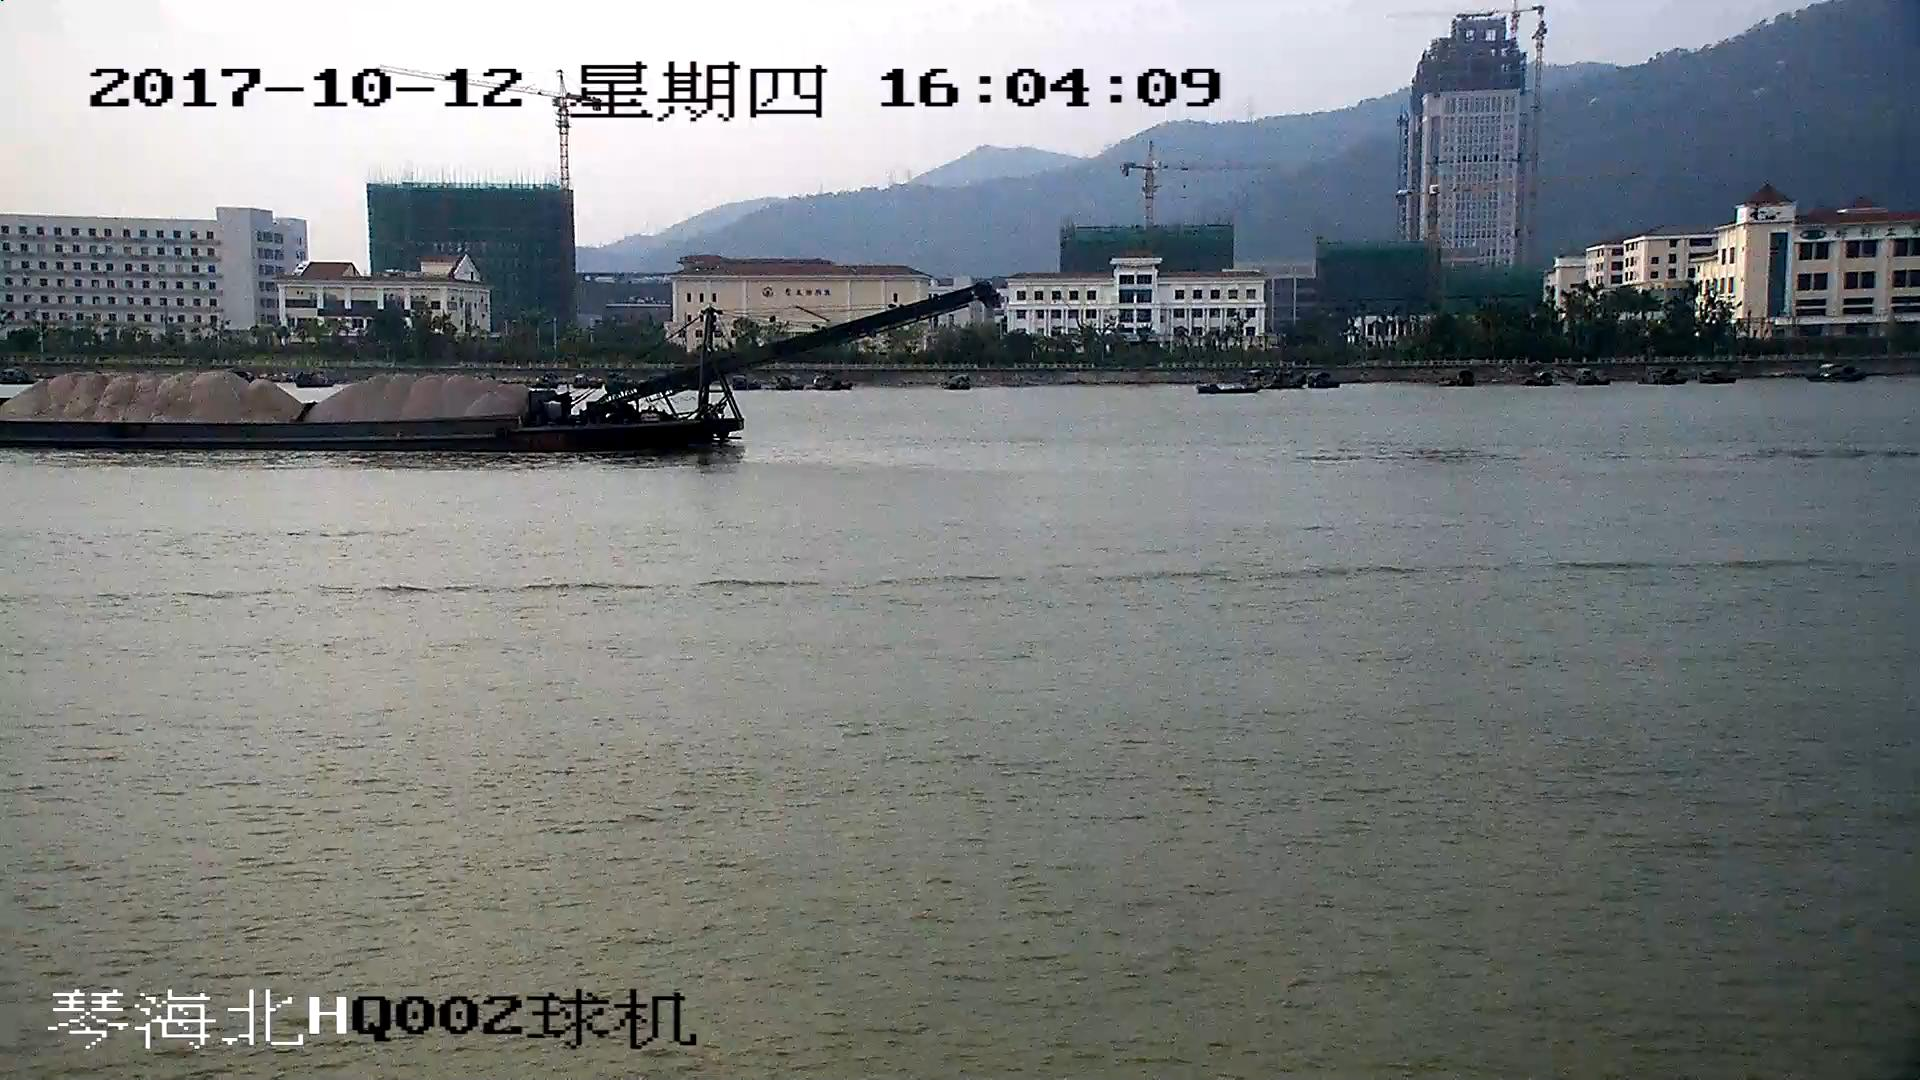ore carrier: (1, 283, 984, 446)
